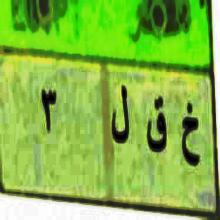3: (39, 83, 58, 137)
khaa: (178, 96, 200, 172)
laam: (110, 82, 131, 152)
qaaf: (146, 93, 168, 159)
